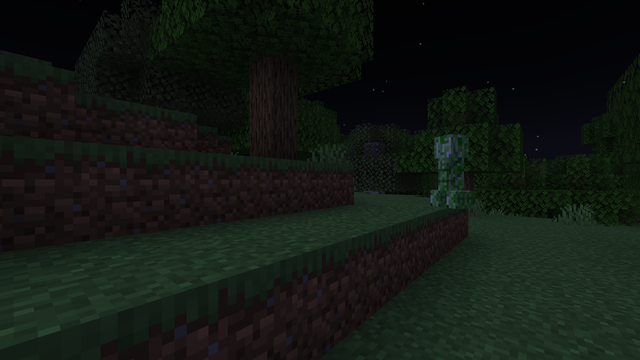creepers: (433, 129, 467, 208)
